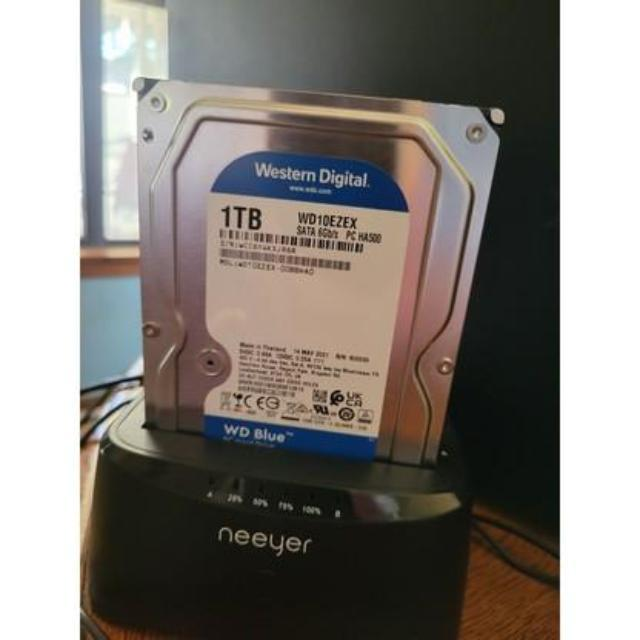DISK: (128, 74, 506, 472)
